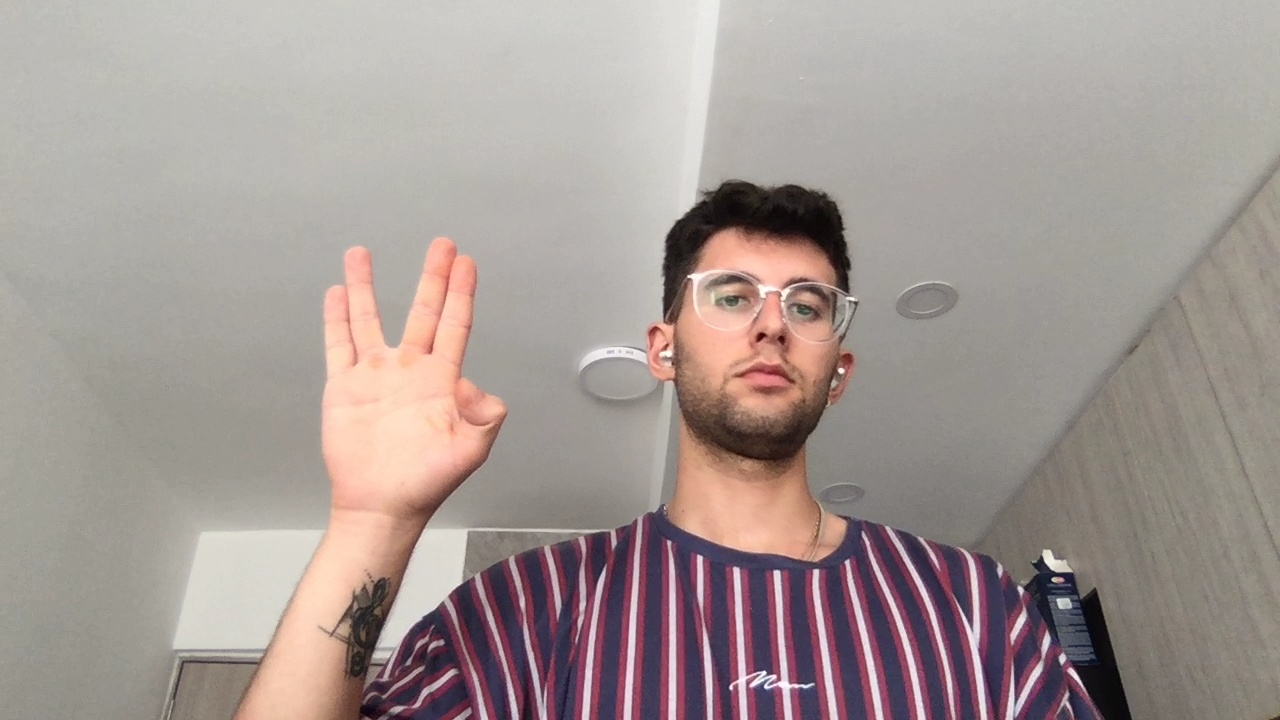LiveLong: (320, 233, 510, 516)
